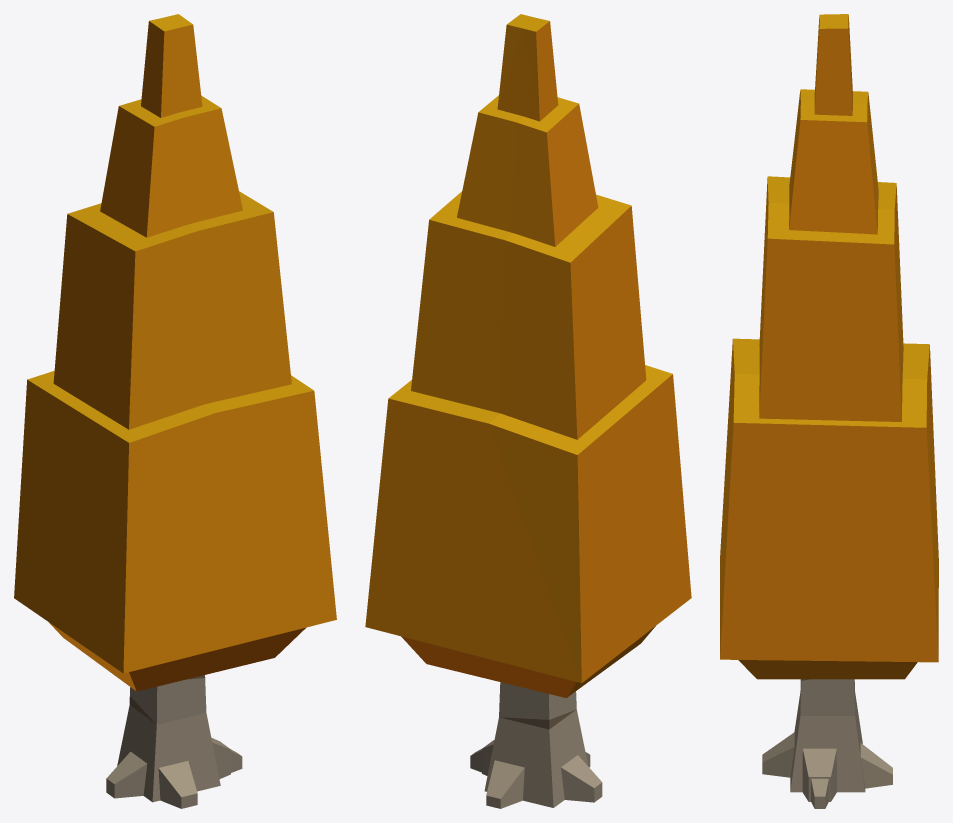
Rendered from SF_Env_Tree_Fall_07.fbx.
3 views of the same model, side by side, from view 1: azimuth 30°, elevation 25°; view 2: azimuth 150°, elevation 25°; view 3: azimuth 270°, elevation 25° (orthographic).
Parts seen in each view (by area): view 1: SF_Env_Tree_Fall_07; view 2: SF_Env_Tree_Fall_07; view 3: SF_Env_Tree_Fall_07.
Boxes of the visible parts, x1,y1,x2,y2 form: SF_Env_Tree_Fall_07: [14, 14, 336, 808]; SF_Env_Tree_Fall_07: [365, 14, 691, 808]; SF_Env_Tree_Fall_07: [720, 14, 938, 808].
Size of the model in its own units: 1.93 by 6.49 by 1.7.
